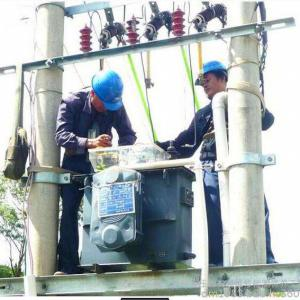blue: (88, 69, 125, 115), (194, 62, 228, 100)
